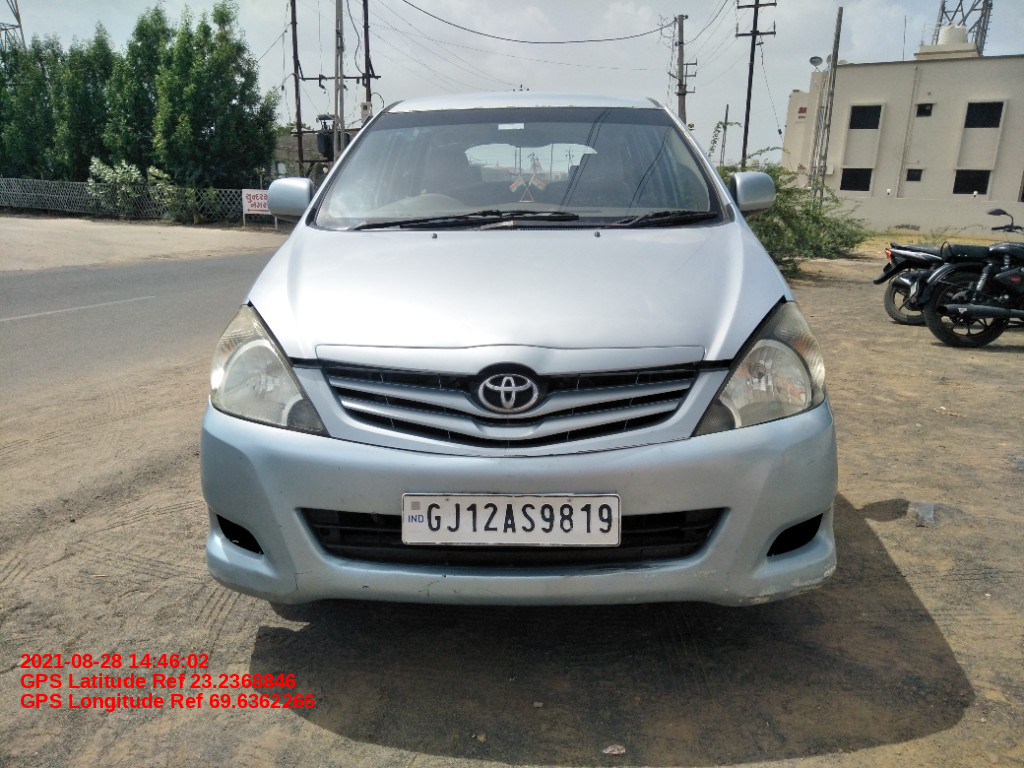Cracked: (354, 583, 378, 591)
Scratched: (750, 558, 840, 608), (573, 559, 685, 579), (693, 561, 738, 599), (417, 573, 457, 601), (284, 567, 314, 597), (621, 587, 639, 606), (803, 455, 820, 471), (272, 518, 287, 531)
